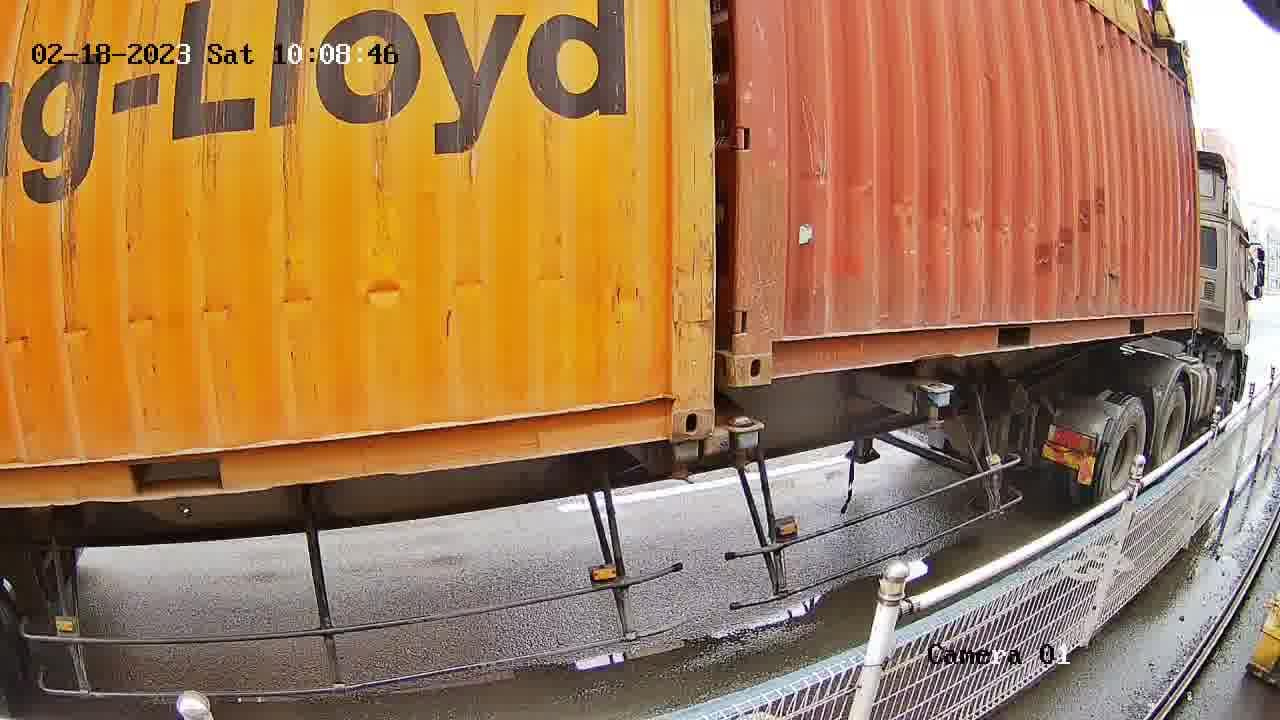Cone: (726, 415, 765, 475), (666, 441, 700, 484)
Hole_L: (733, 318, 803, 387)
Hole_R: (635, 375, 714, 442)
Tire: (1098, 400, 1147, 510), (1154, 385, 1187, 475)
